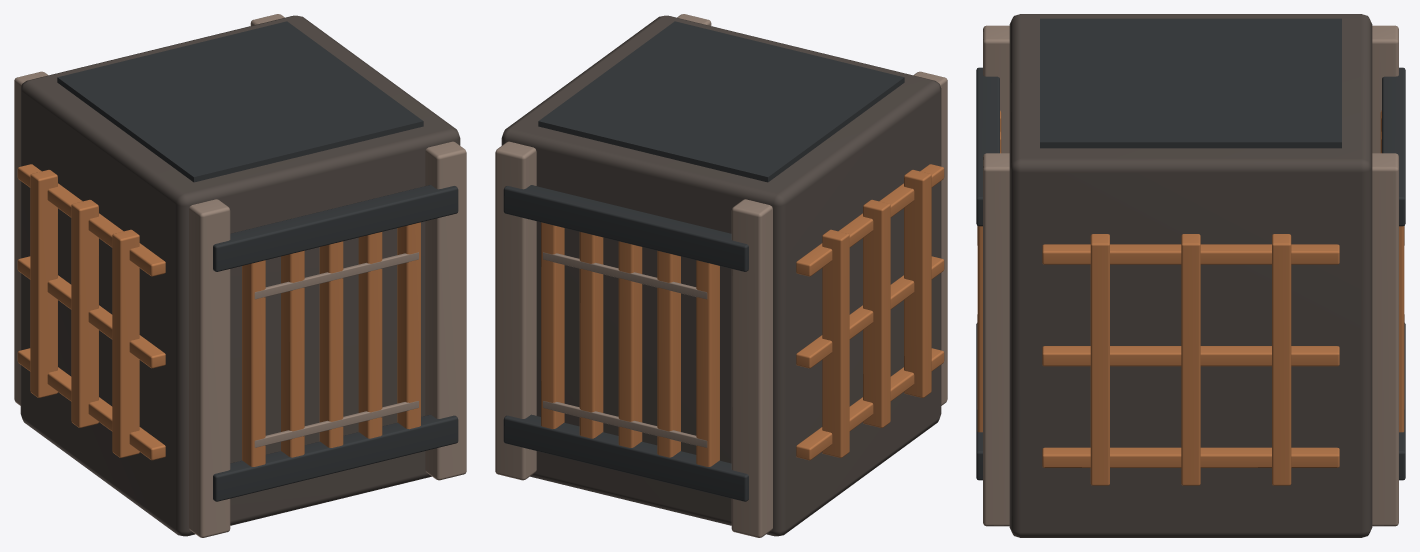
File: refinery-top-0.glb
The picture shows the model from 3 angles, left to right: view 1: azimuth 30°, elevation 25°; view 2: azimuth 150°, elevation 25°; view 3: azimuth 270°, elevation 25°; orthographic projection. The views are drawn at different scales.
Visible parts, largest first — view 1: refinery_0, refinery_2, refinery_3, refinery_1; view 2: refinery_0, refinery_2, refinery_3, refinery_1; view 3: refinery_0, refinery_2, refinery_3, refinery_1.
Boxes of the visible parts, x1=… form: refinery_0: x1=20, y1=15, x2=460, y2=536; refinery_2: x1=57, y1=21, x2=458, y2=501; refinery_3: x1=17, y1=164, x2=420, y2=466; refinery_1: x1=14, y1=14, x2=466, y2=537; refinery_0: x1=501, y1=15, x2=941, y2=536; refinery_2: x1=503, y1=21, x2=904, y2=501; refinery_3: x1=541, y1=164, x2=944, y2=466; refinery_1: x1=495, y1=14, x2=947, y2=537; refinery_0: x1=1009, y1=14, x2=1372, y2=537; refinery_2: x1=976, y1=18, x2=1405, y2=480; refinery_3: x1=977, y1=110, x2=1404, y2=485; refinery_1: x1=977, y1=25, x2=1404, y2=526.
Size of the model in its own units: 0.98 by 1 by 0.995.
